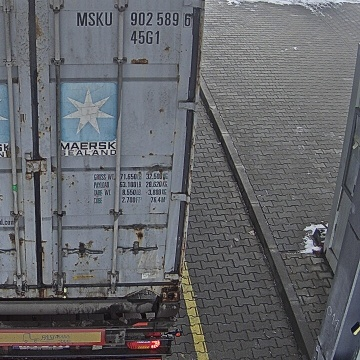serial_id: (77, 12, 191, 26)
